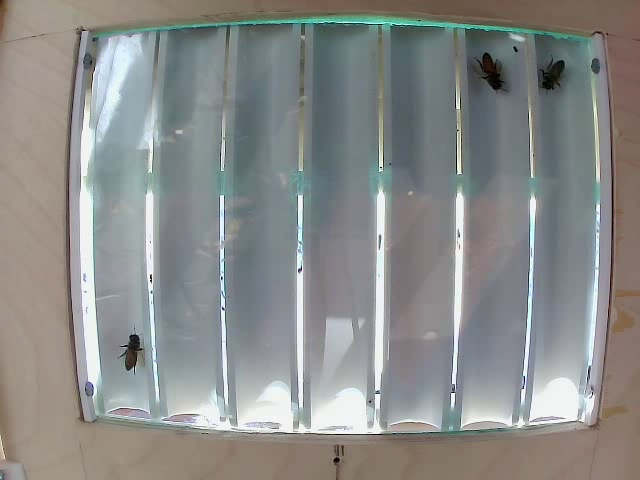bee: (471, 37, 508, 99), (111, 332, 153, 368), (542, 51, 573, 92)
